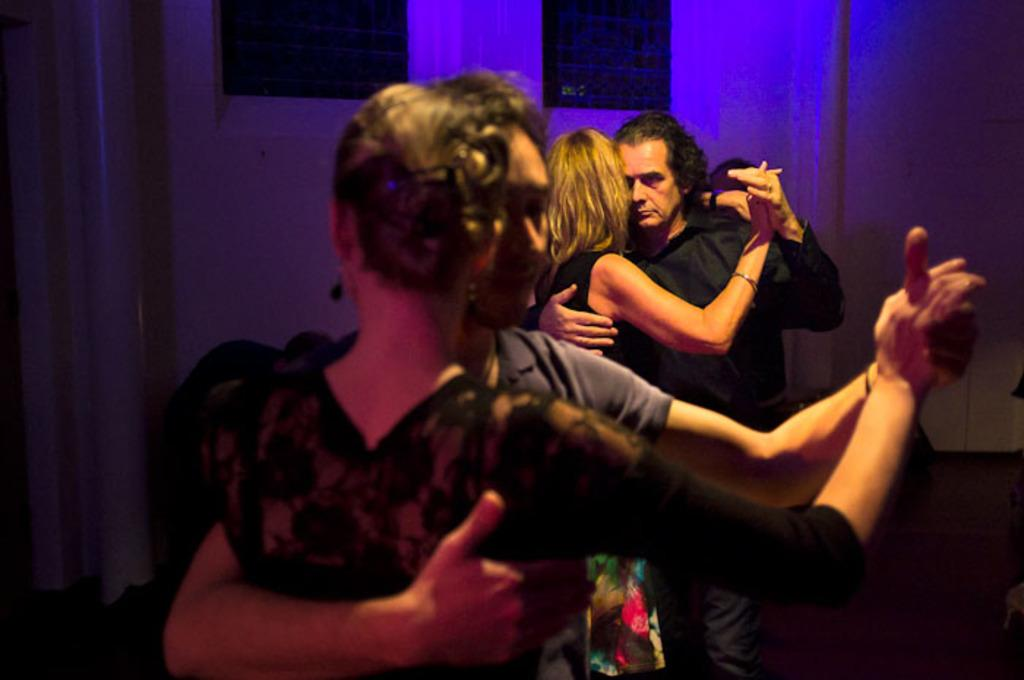Sem Máscara: (495, 127, 552, 320), (607, 140, 675, 225)
